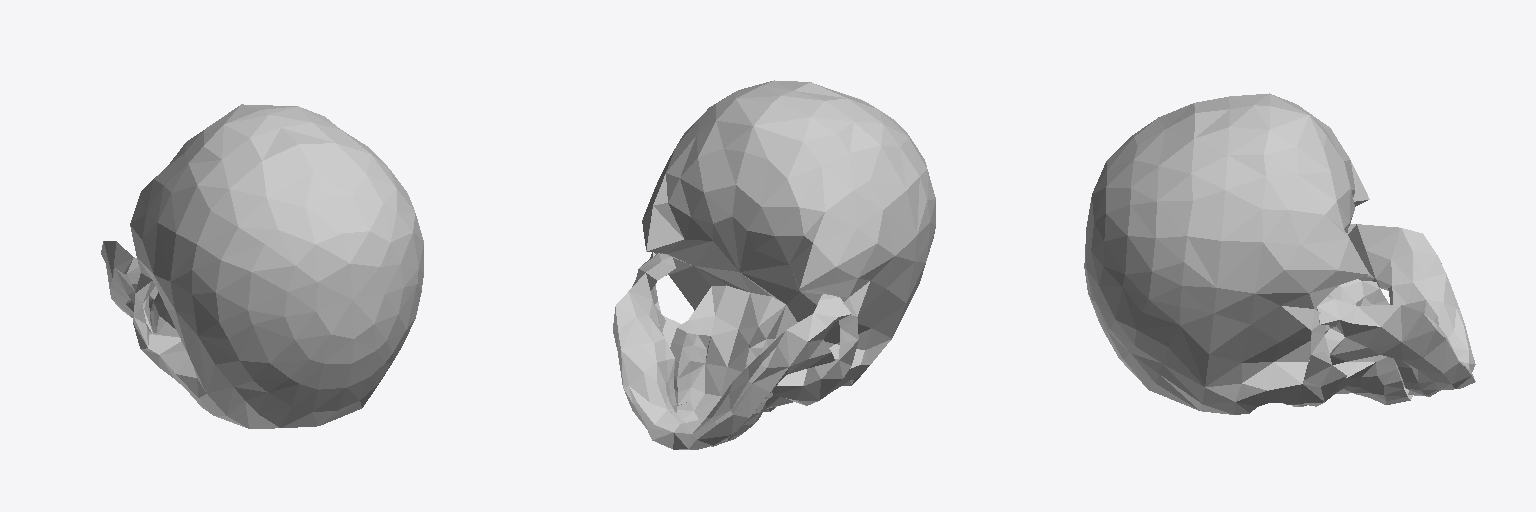
The model's file is shareware_output.obj.
3 views of the same model, side by side, from view 1: azimuth 30°, elevation 25°; view 2: azimuth 150°, elevation 25°; view 3: azimuth 270°, elevation 25° (orthographic).
Size of the model in its own units: 0.0573 by 0.0703 by 0.0827.